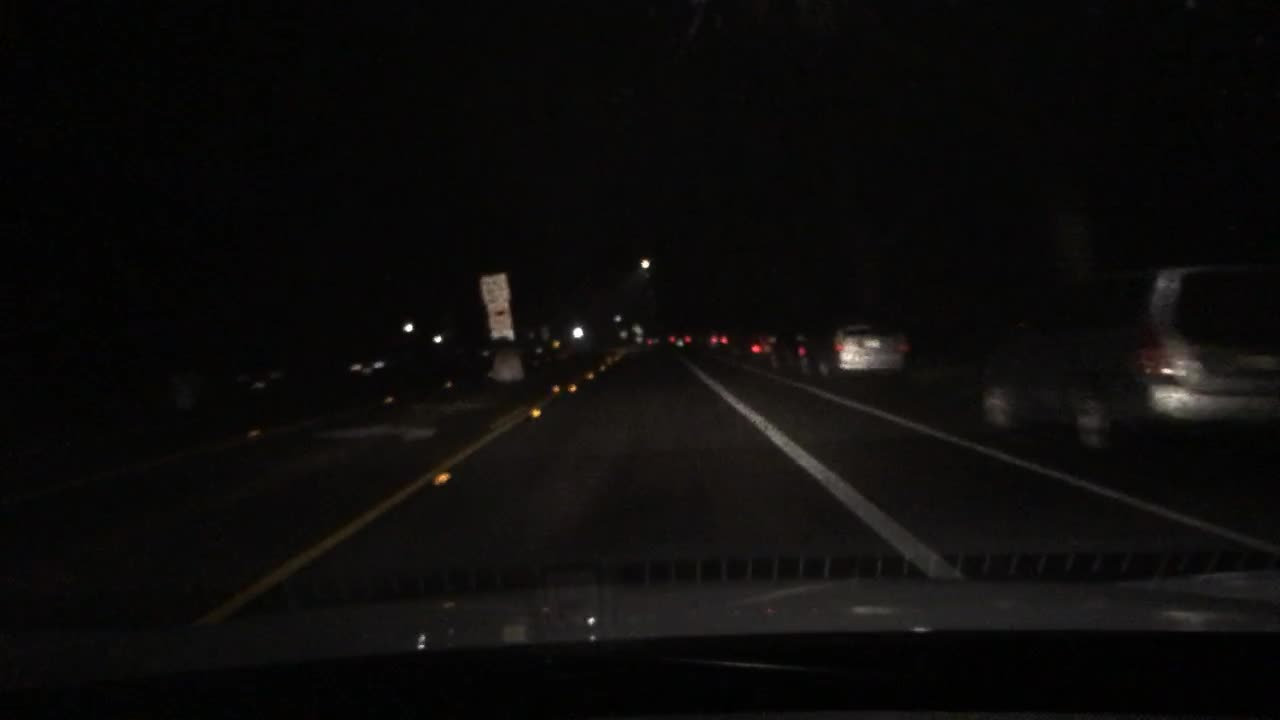car: (976, 253, 1278, 458), (806, 317, 914, 384), (225, 351, 318, 410), (336, 344, 405, 389), (771, 326, 821, 382), (699, 326, 731, 359), (659, 329, 695, 355), (749, 327, 774, 362), (637, 330, 660, 350)
traffic sign: (475, 267, 508, 304), (486, 307, 515, 344)
